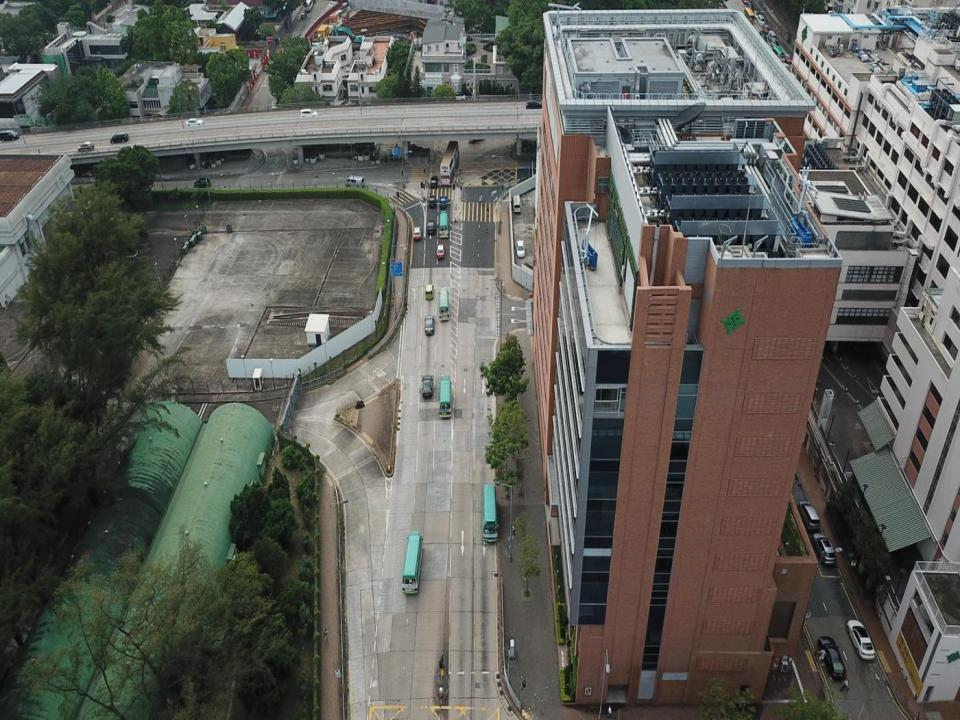bus: (402, 529, 424, 593), (481, 484, 499, 544), (440, 140, 458, 185), (439, 376, 452, 418), (438, 288, 451, 321), (438, 210, 449, 239)
car: (848, 618, 875, 662), (814, 532, 836, 566), (801, 497, 820, 530), (421, 375, 432, 399), (424, 314, 434, 336), (300, 108, 318, 120), (77, 140, 94, 152), (194, 177, 210, 189), (516, 239, 525, 258), (425, 283, 434, 301), (185, 118, 203, 127), (436, 244, 444, 259), (413, 226, 421, 239), (429, 176, 438, 186)
van: (110, 132, 129, 144), (346, 176, 364, 188), (0, 129, 18, 141), (512, 193, 521, 212), (439, 197, 447, 211), (428, 220, 436, 233), (304, 1, 313, 12), (428, 196, 435, 209)
